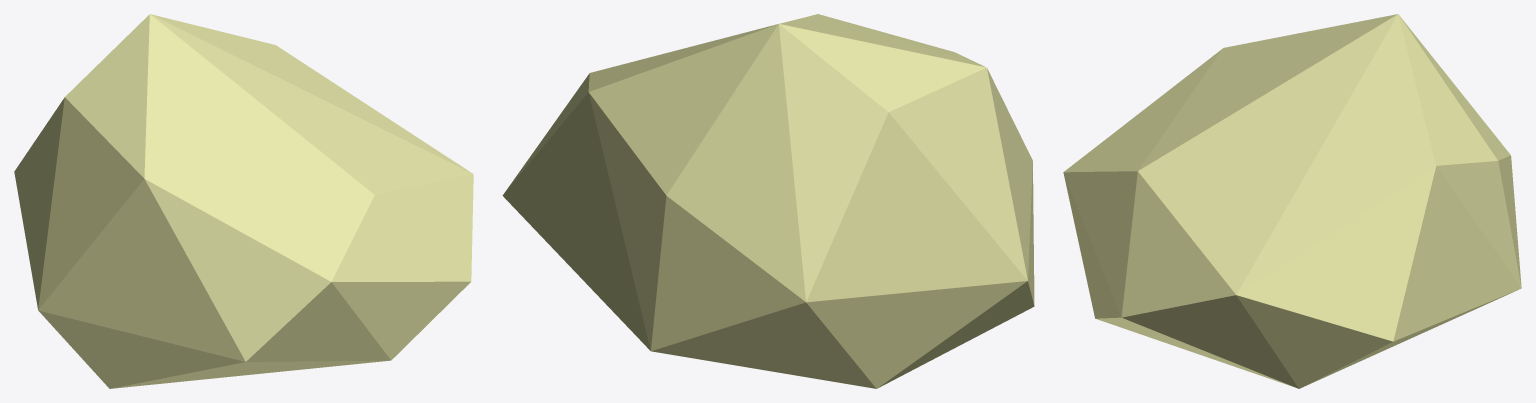
Rendered from rock.gltf.
The picture shows the model from 3 angles, left to right: view 1: azimuth 30°, elevation 25°; view 2: azimuth 150°, elevation 25°; view 3: azimuth 270°, elevation 25°; orthographic projection. The views are drawn at different scales.
Visible parts, largest first — view 1: Rock; view 2: Rock; view 3: Rock.
Part boxes in pixels (bbox=[...]): Rock: bbox=[14, 14, 473, 388]; Rock: bbox=[502, 14, 1034, 388]; Rock: bbox=[1063, 14, 1521, 388].
Size of the model in its own units: 1.49 by 0.9905 by 1.45.
